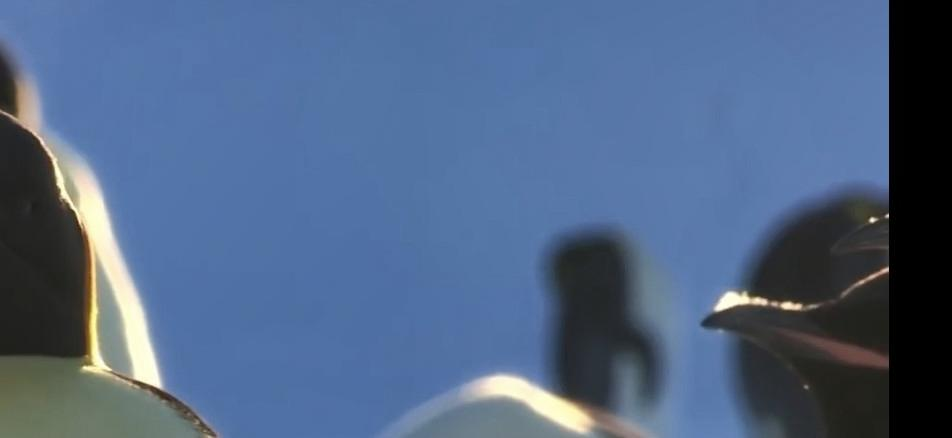Emperor Penguin: (0, 77, 351, 438)
